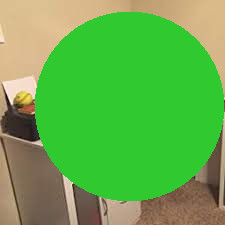focus: (25, 5, 223, 214)
